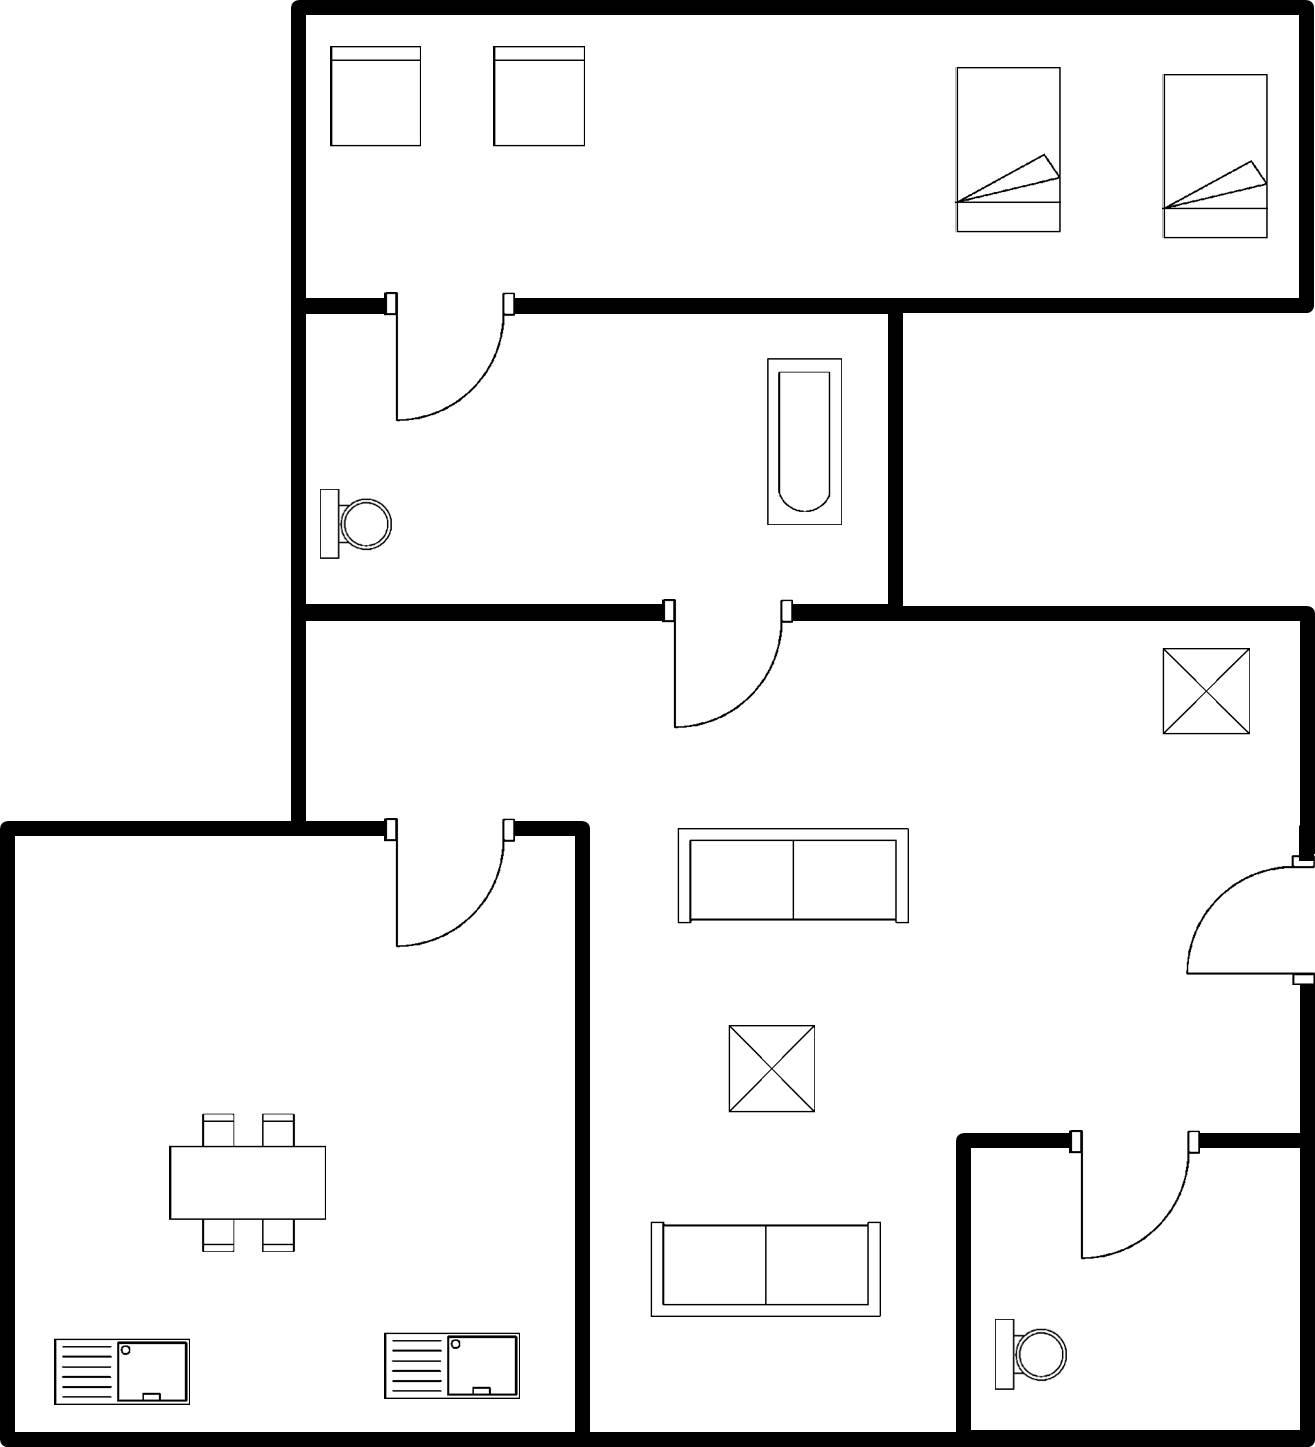bed: (946, 50, 1068, 239), (1155, 61, 1272, 247)
dining_table: (161, 1100, 333, 1264)
sink: (42, 1329, 202, 1413), (374, 1323, 530, 1405)
sofa: (664, 816, 917, 930), (643, 1209, 889, 1326)
toilet: (988, 1310, 1072, 1402), (311, 480, 396, 568)
tub: (756, 347, 851, 534)
